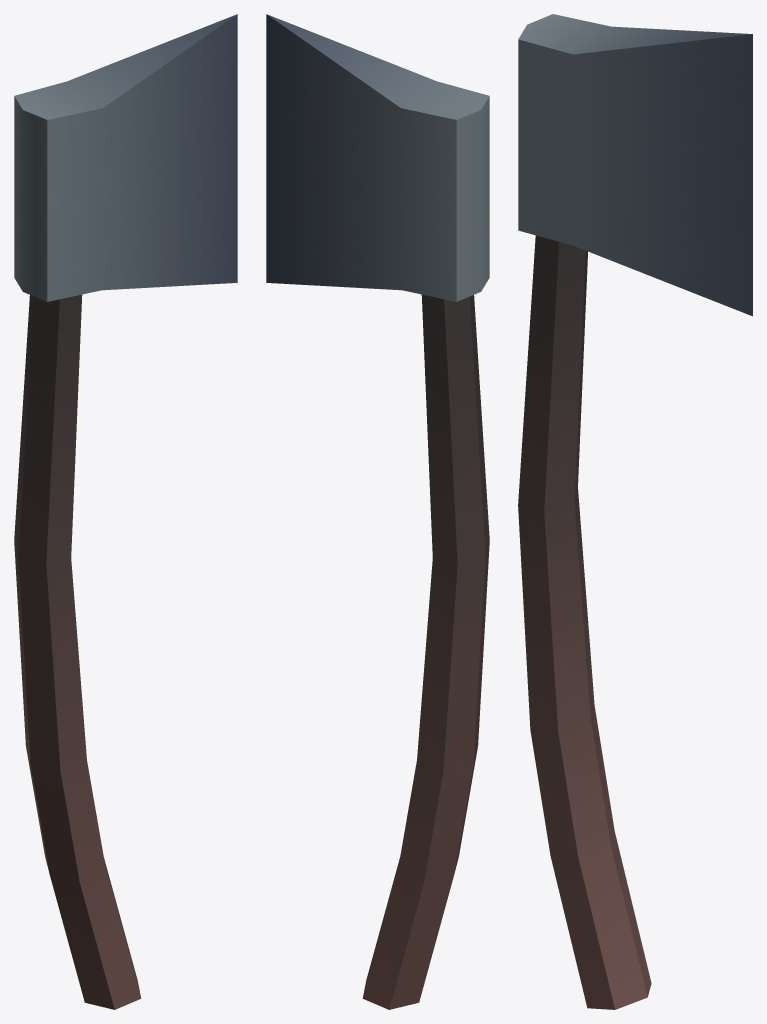
The model's file is Топор.fbx.
3 renders of one model, left to right at view 1: azimuth 30°, elevation 25°; view 2: azimuth 150°, elevation 25°; view 3: azimuth 330°, elevation 25°, orthographic. The views are drawn at different scales.
Visible parts, largest first — view 1: Топор; view 2: Топор; view 3: Топор.
Part boxes in pixels (x1,y1,x2,y2): Топор: (14,14,237,1009); Топор: (266,14,489,1009); Топор: (518,14,752,1009).
Bounding box in the file's own units: 8.48 × 35.11 × 2.43.
